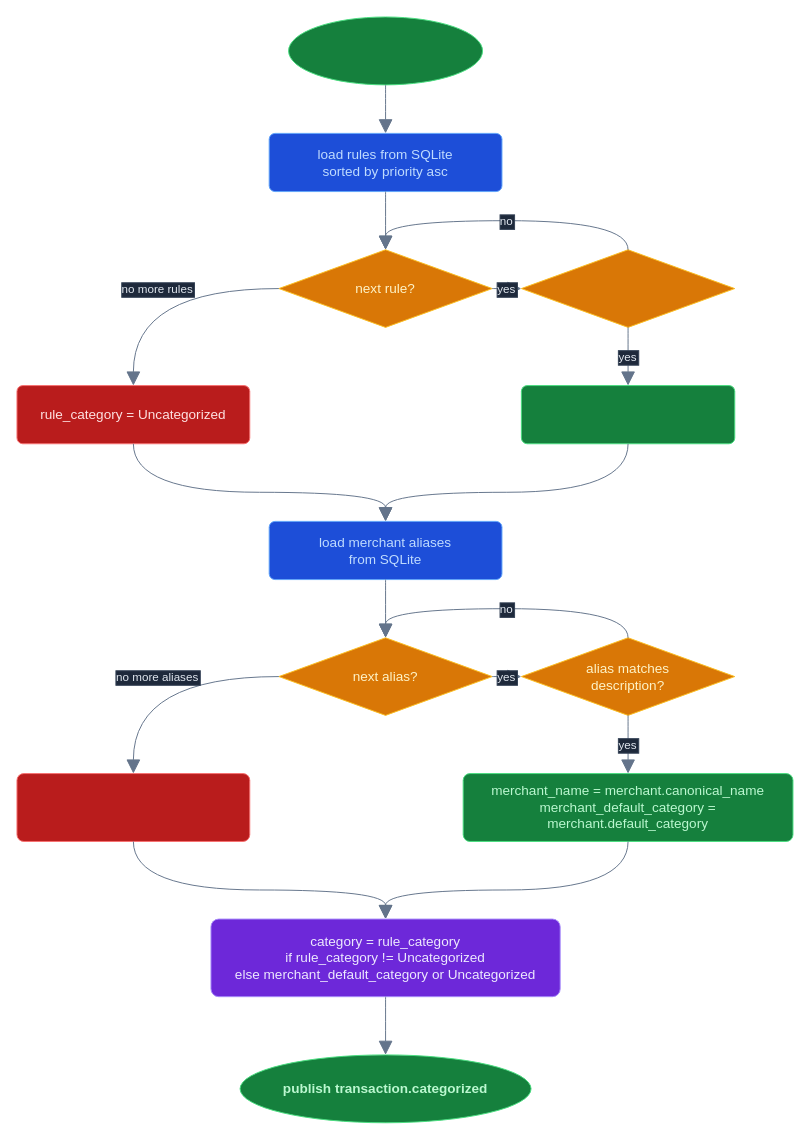
The diagram is 810 pixels wide and 1140 high, and some of its shapes have lost their labels. The shapes that lost their labels are listed below. From the top down, each one's centre as x and y in pixels, then its label:
pixel 385 50: raw_description from event
pixel 627 288: rule matches description?
pixel 627 414: rule_category = rule.category
pixel 133 807: merchant_name = null merchant_default_category = null
